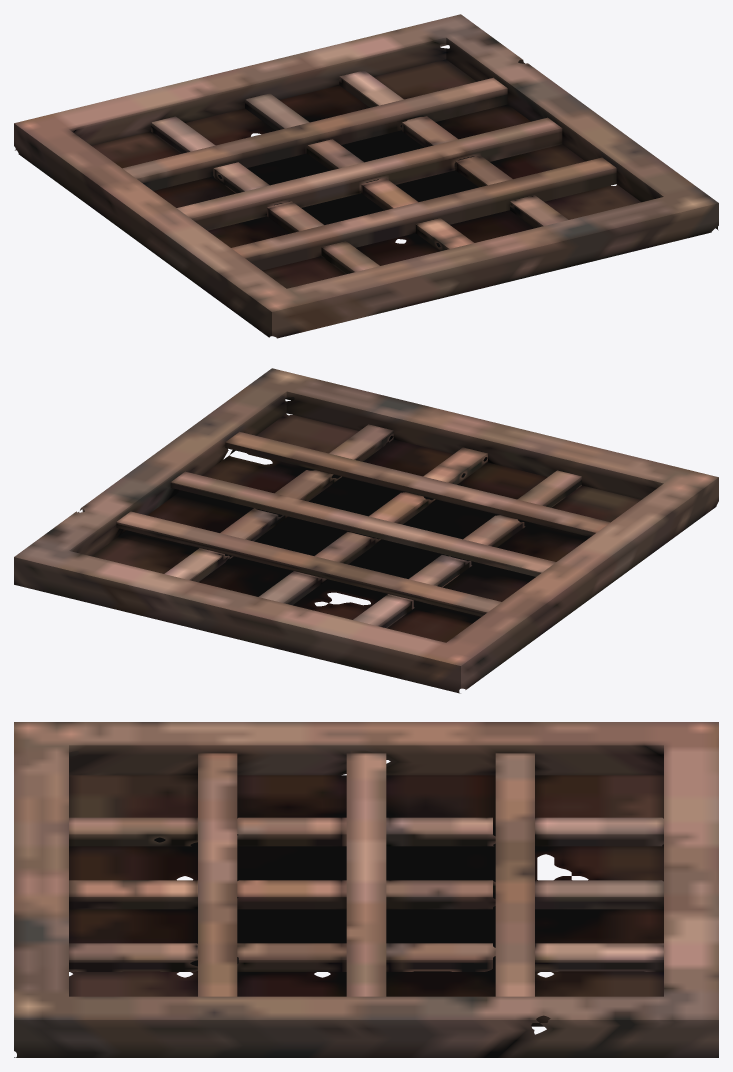
File: sewerGrateA.fbx
The picture shows the model from 3 angles, top to bottom: view 1: azimuth 30°, elevation 25°; view 2: azimuth 150°, elevation 25°; view 3: azimuth 270°, elevation 25°; orthographic projection. The views are drawn at different scales.
Parts seen in each view (by area): view 1: sewerGrateA; view 2: sewerGrateA; view 3: sewerGrateA.
Boxes of the visible parts, box(x1,y1,x2,y2) form: sewerGrateA: box(14, 14, 718, 338); sewerGrateA: box(14, 368, 718, 693); sewerGrateA: box(14, 722, 718, 1057).
Size of what is drawn, in the model's own units: 117 by 6.91 by 117.
1 material, 1 textured.
